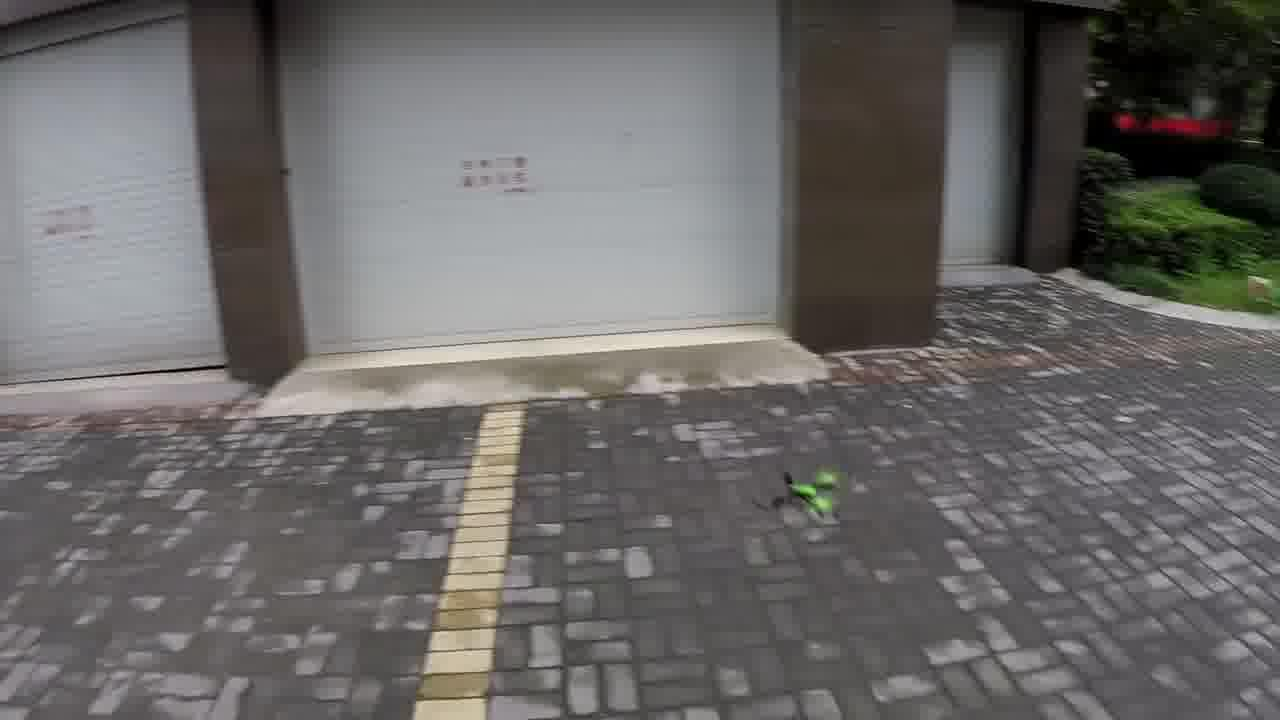drone: (754, 444, 856, 537)
